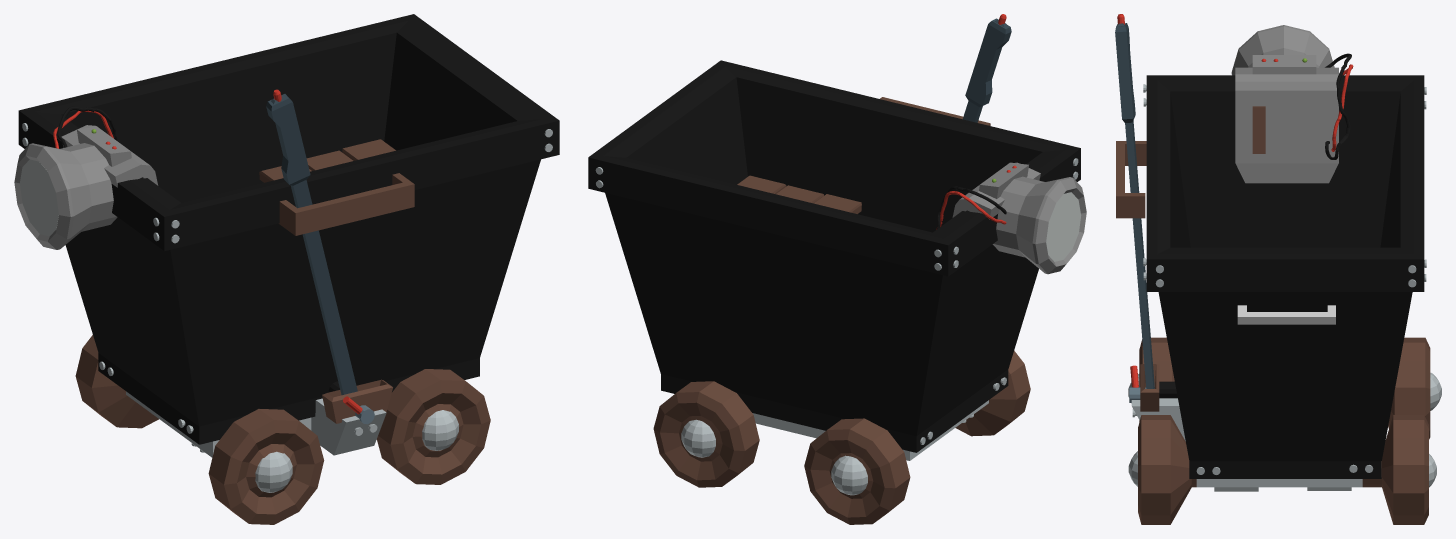
The model's file is minecart.fbx.
3 renders of one model, left to right at view 1: azimuth 30°, elevation 25°; view 2: azimuth 150°, elevation 25°; view 3: azimuth 270°, elevation 25°, orthographic. The views are drawn at different scales.
Parts seen in each view (by area): view 1: group1740952096; view 2: group1740952096; view 3: group1740952096.
Part boxes in pixels (bbox=[...]): group1740952096: bbox=[14, 14, 559, 524]; group1740952096: bbox=[588, 14, 1086, 524]; group1740952096: bbox=[1115, 14, 1441, 524].
Size of the model in its own units: 1 by 0.9396 by 0.6553.
